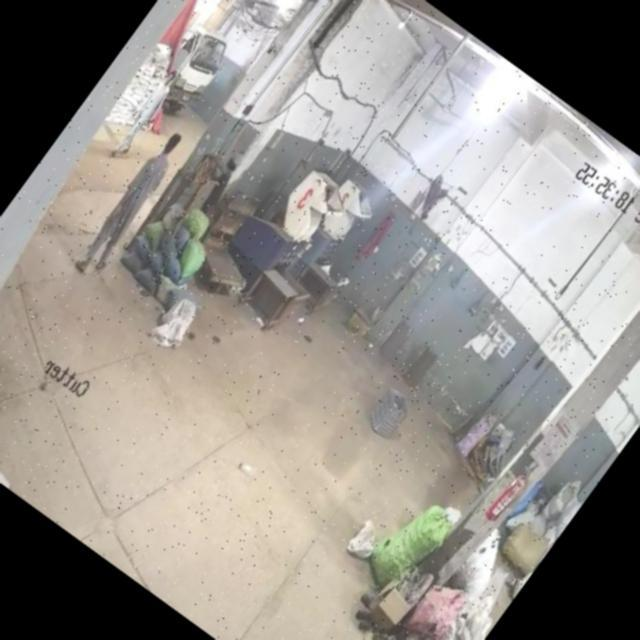person: (65, 127, 188, 282), (100, 64, 180, 164)
